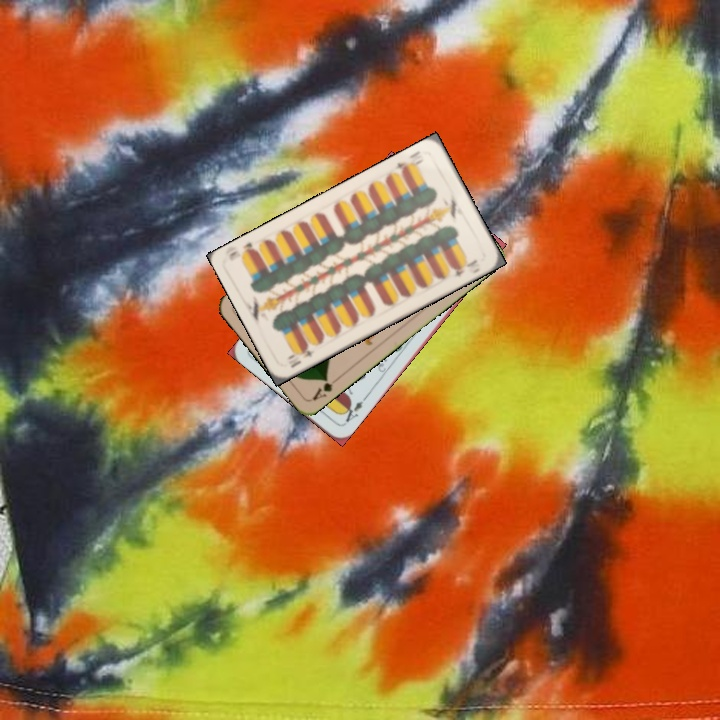E10: (391, 146, 427, 177), (284, 342, 317, 362)
EA: (337, 393, 369, 427)
GA: (308, 372, 342, 403)
